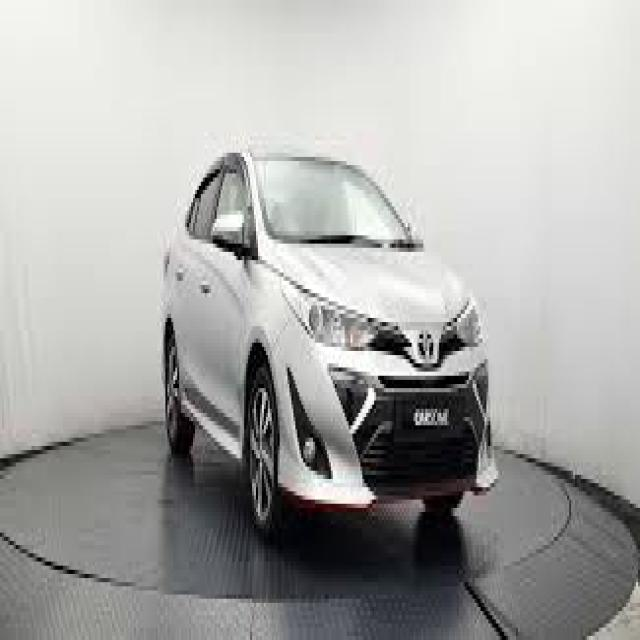ToyotaVios: (160, 132, 498, 541)
